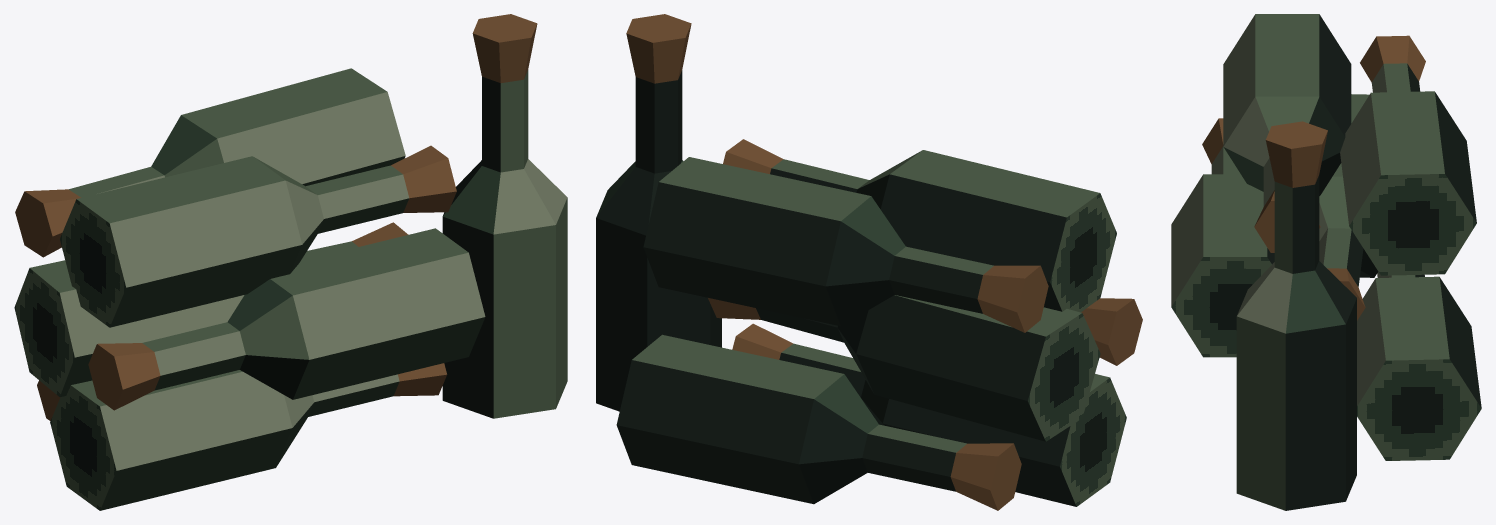
File: fuellung_flaschen_a_gruen.glb
3 views of the same model, side by side, from view 1: azimuth 30°, elevation 25°; view 2: azimuth 150°, elevation 25°; view 3: azimuth 270°, elevation 25° (orthographic). The views are drawn at different scales.
Parts seen in each view (by area): view 1: flaschen_a_gruen; view 2: flaschen_a_gruen; view 3: flaschen_a_gruen.
Boxes of the visible parts, x1,y1,x2,y2 form: flaschen_a_gruen: (14, 14, 567, 510); flaschen_a_gruen: (596, 14, 1142, 510); flaschen_a_gruen: (1171, 14, 1481, 510).
Bounding box in the file's own units: 0.5066 × 0.3575 × 0.2881.
1 material, 1 textured.
